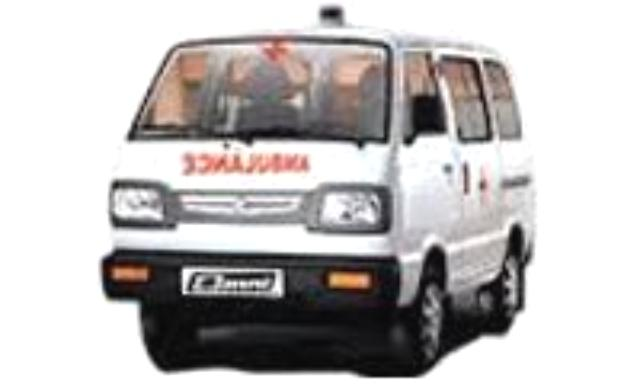ambulance: (99, 0, 539, 375)
